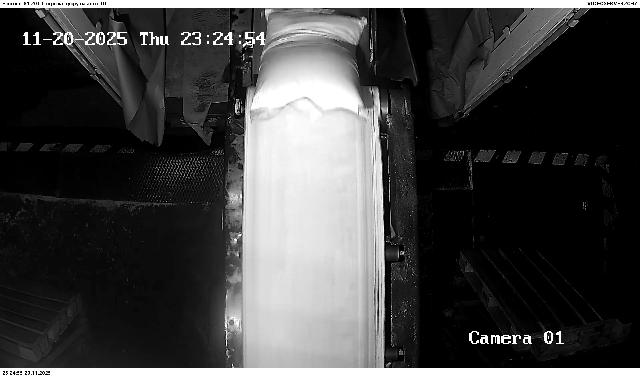bag: (251, 8, 369, 123)
